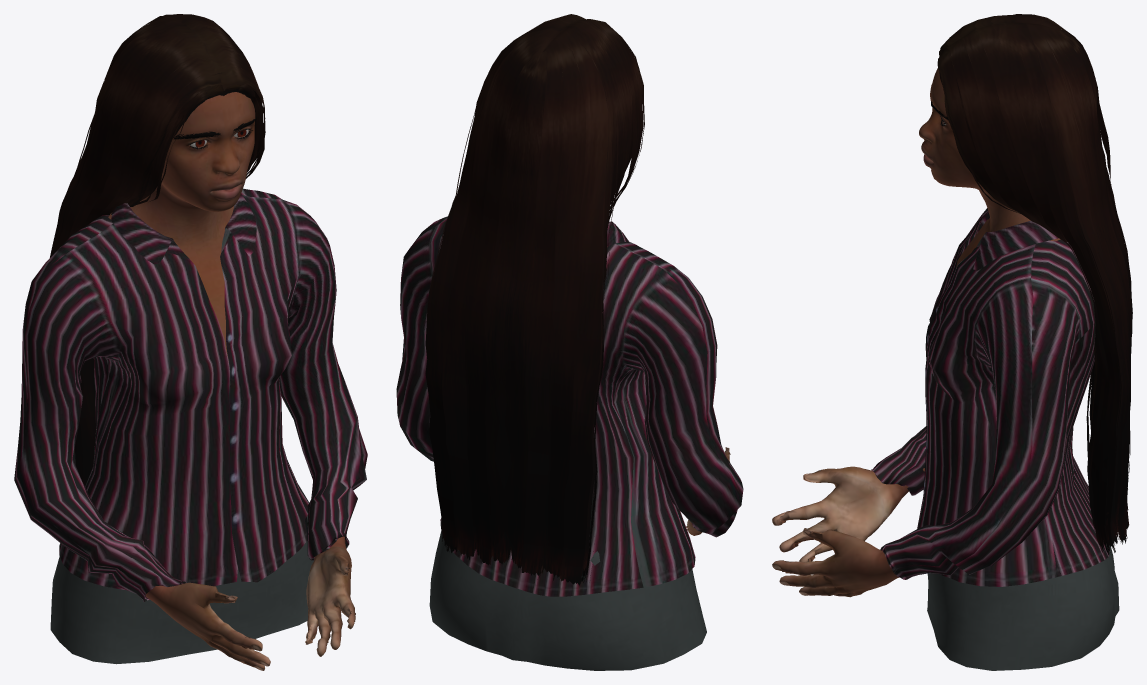
File: f_young_af.glb
3 renders of one model, left to right at view 1: azimuth 30°, elevation 25°; view 2: azimuth 150°, elevation 25°; view 3: azimuth 270°, elevation 25°, orthographic.
Parts seen in each view (by area): view 1: Human.female_elegantsuit01, Human.long01, Human; view 2: Human.long01, Human.female_elegantsuit01; view 3: Human.female_elegantsuit01, Human.long01, Human.
Boxes of the visible parts, x1,y1,x2,y2 form: Human.female_elegantsuit01: (14, 188, 367, 664); Human.long01: (50, 14, 265, 486); Human: (108, 92, 355, 670); Human.long01: (425, 14, 644, 585); Human.female_elegantsuit01: (396, 216, 743, 670); Human.female_elegantsuit01: (871, 208, 1119, 670); Human.long01: (937, 14, 1132, 554); Human: (772, 68, 1060, 597).
Bounding box in the file's own units: 0.4224 × 0.7308 × 0.4049.
Materials: 9 (9 with a texture image).
